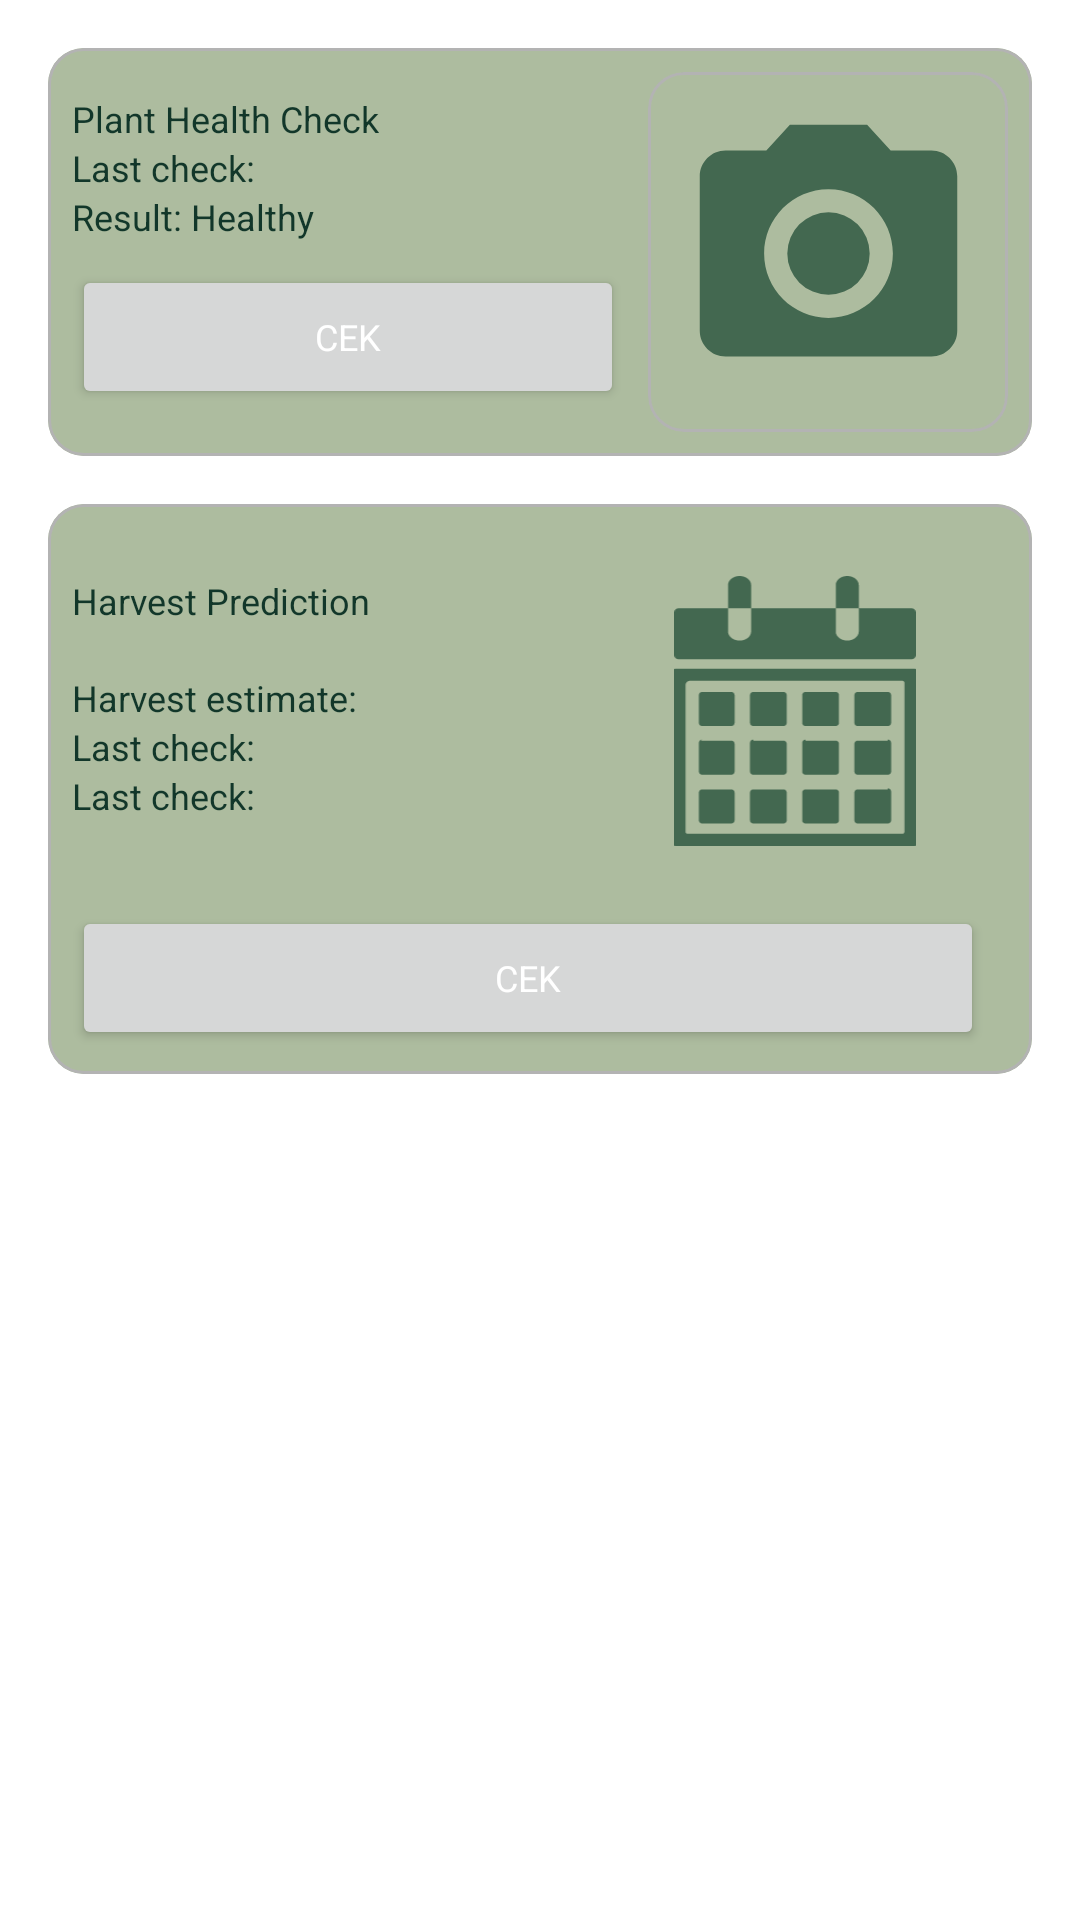

Icons on this 1080*1920 Android screen, each with its box as (x1, y1, x2, y2):
calendar: (674, 576, 916, 846)
photo camera: (699, 124, 958, 357)
